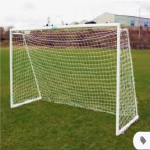goals: (8, 22, 140, 136)
